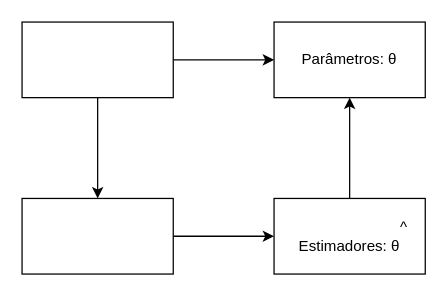
The diagram is 447 pixels wide and 296 high, and some of its shapes have lost their labels. The shapes that lost their labels are listed below. From the top down, each one's centre as x and y in pixels, then its label:
At [97,59]: "População".
At [97,235]: "Amostras".
